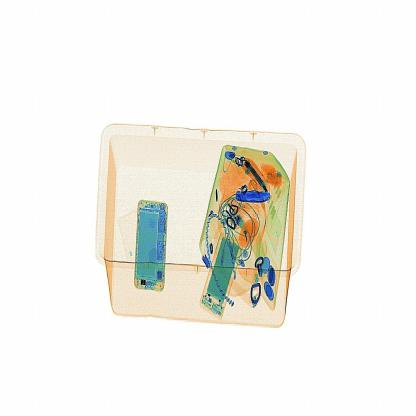knife: (231, 186, 277, 212)
